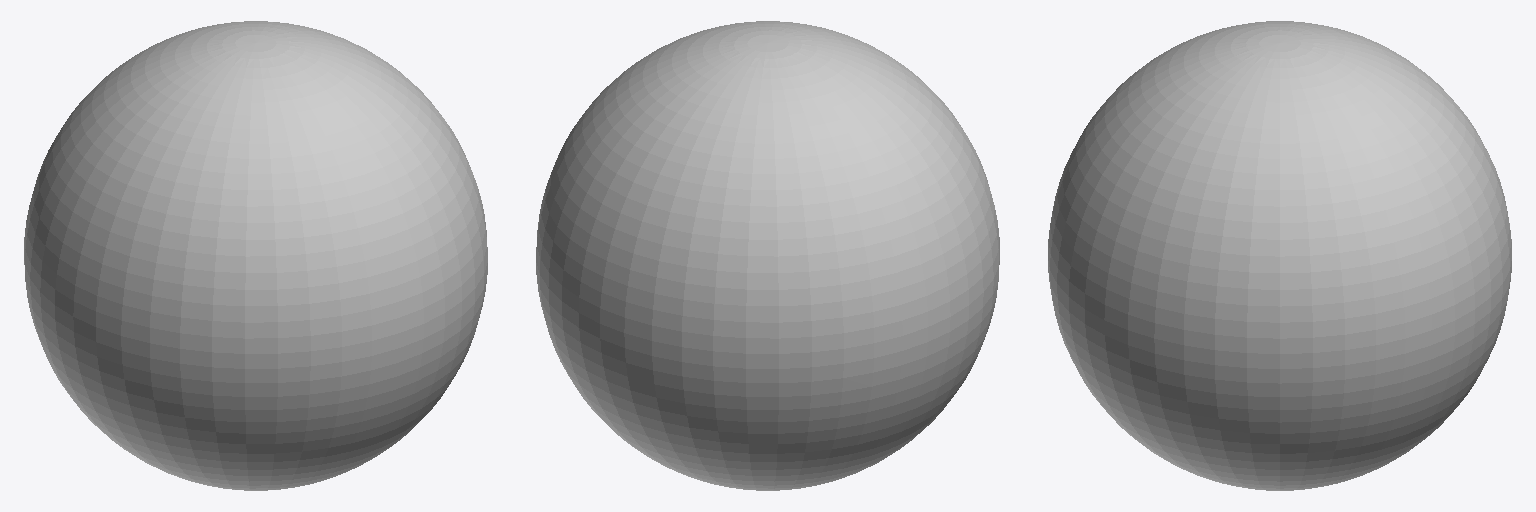
Rendered from venus.obj.
3 renders of one model, left to right at view 1: azimuth 30°, elevation 25°; view 2: azimuth 150°, elevation 25°; view 3: azimuth 270°, elevation 25°, orthographic.
Parts seen in each view (by area): view 1: Venus; view 2: Venus; view 3: Venus.
Part boxes in pixels (left/top/right/bottom): Venus: left=24, top=21, right=487, bottom=490; Venus: left=536, top=21, right=999, bottom=490; Venus: left=1048, top=21, right=1511, bottom=490.
Size of the model in its own units: 21.57 by 21.83 by 21.57.